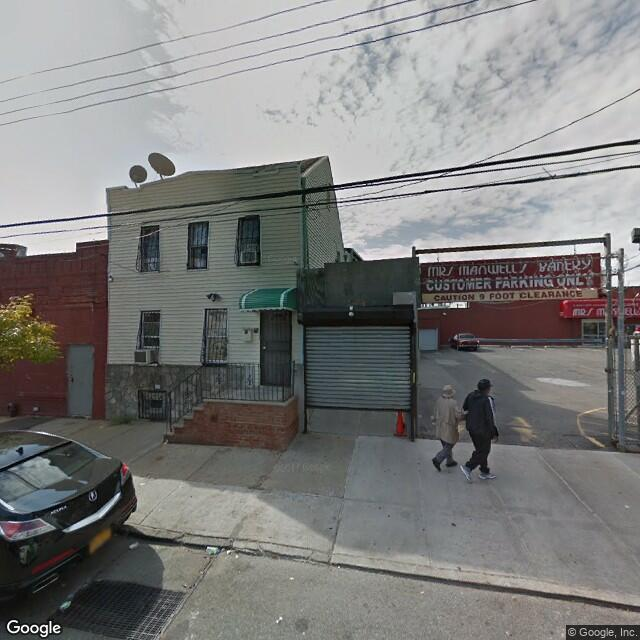litter: (125, 541, 142, 553), (56, 601, 74, 611), (204, 546, 219, 557), (225, 546, 238, 557), (274, 615, 286, 624), (623, 502, 629, 509), (96, 421, 103, 427), (288, 574, 295, 579)
